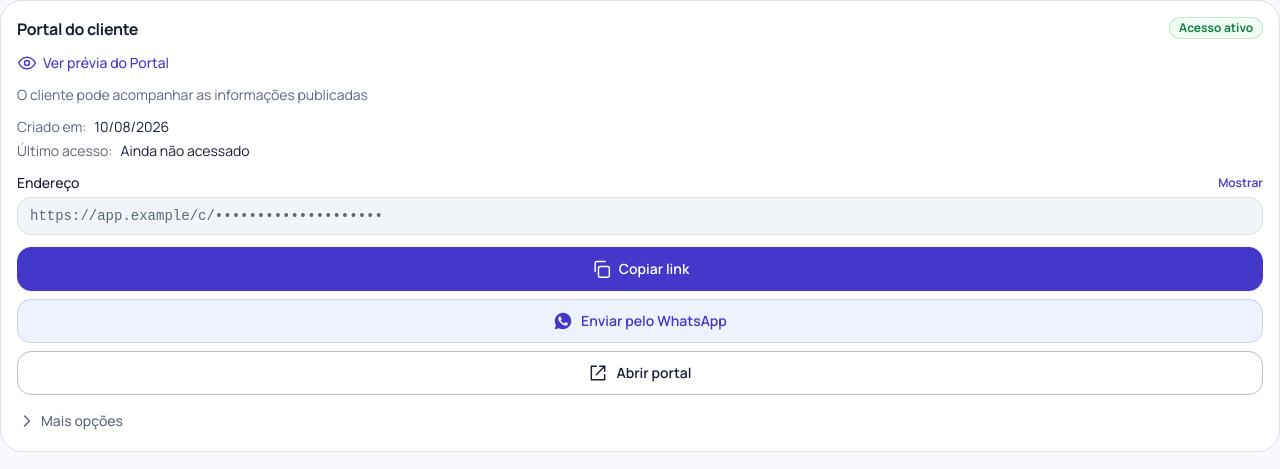
Test: ClientPortalCard › shows active access, dates, a masked URL by default and actions
Check: the text "Acesso ativo" is shown, box [1169,17,1263,39]
Check: the text "O cliente pode acompanhar as informações publicadas" is shown, box [17,85,368,104]
Click the button "Mostrar". click: (1241, 183)
box: [1218,175,1263,191]
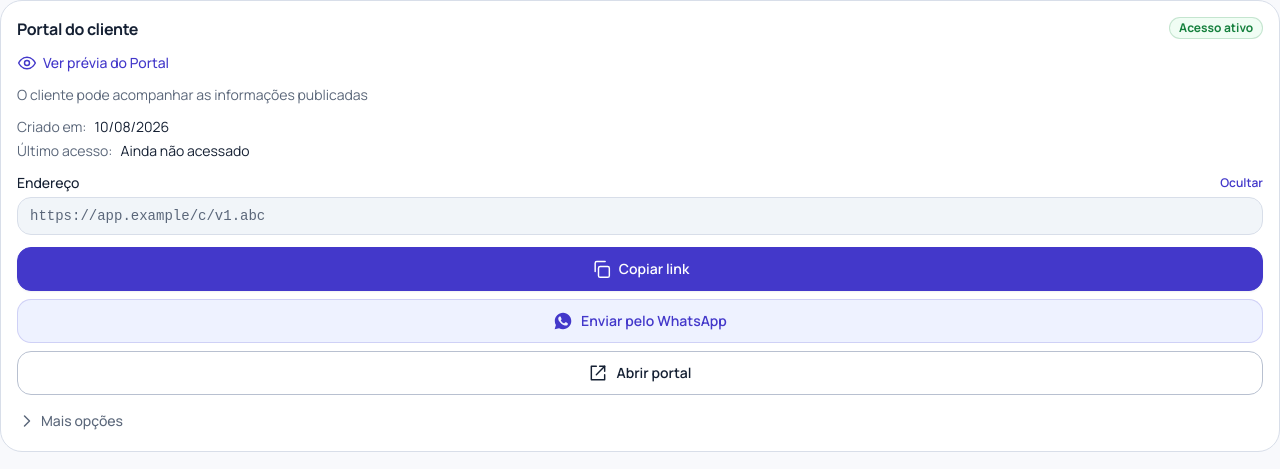
Check: the text with test id "portal-url" reads "https://app.example/c/v1.abc", box [30,208,265,224]
Click the button "Ocultar". click: (1242, 183)
box: [1220,175,1263,191]
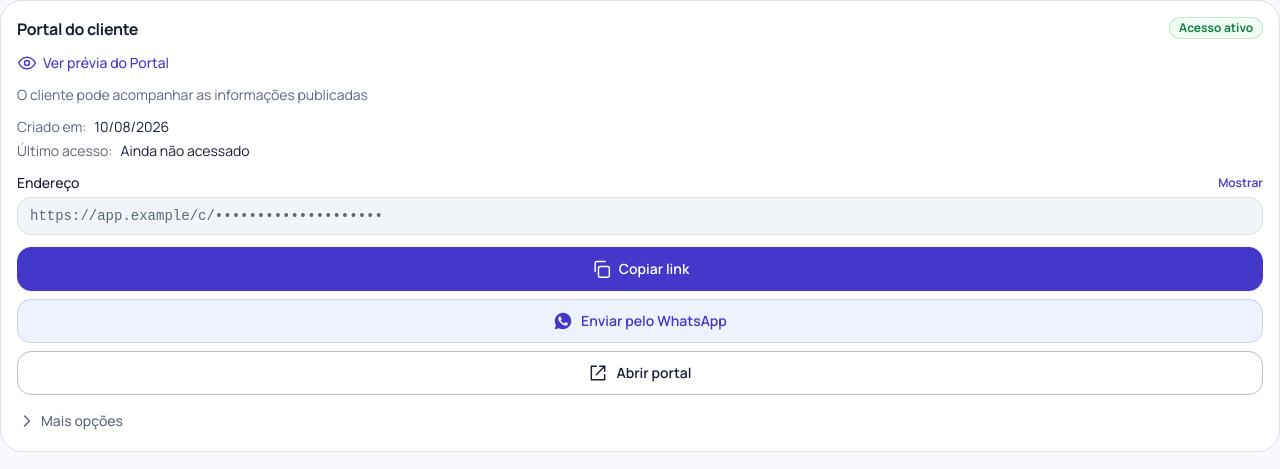
Check: the button "Copiar link" is shown, box [17,247,1263,291]
Check: the text with test id "portal-url" no longer shows "v1.abc", box [17,197,1263,235]
